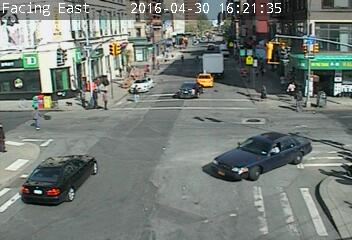neg: (144, 132, 185, 187), (254, 132, 284, 172), (303, 16, 332, 54), (83, 148, 107, 180), (189, 75, 212, 106), (289, 125, 306, 148), (229, 137, 245, 159), (66, 41, 79, 59), (218, 103, 227, 116), (189, 23, 196, 32), (210, 20, 217, 29), (227, 24, 232, 30)
pos: (27, 106, 46, 132), (292, 90, 311, 115), (73, 85, 92, 109), (87, 86, 105, 111), (127, 81, 145, 105), (97, 88, 113, 110), (283, 79, 299, 100), (123, 62, 133, 76), (116, 65, 126, 78)
